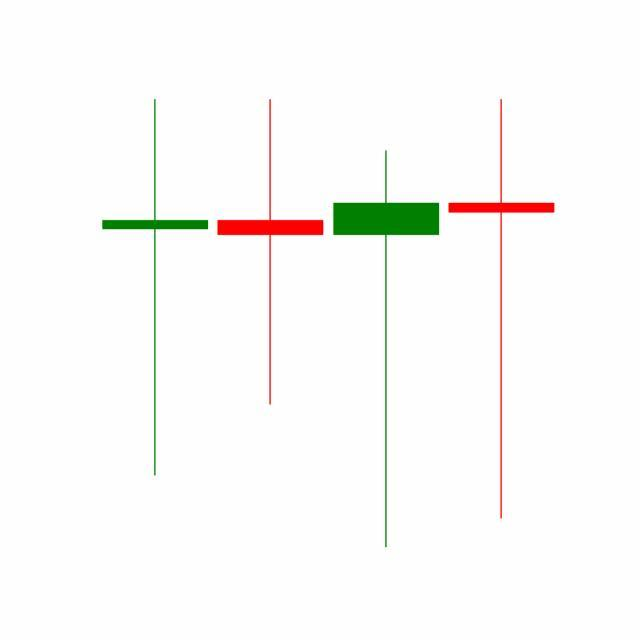Spinning Top: (444, 94, 560, 524)
